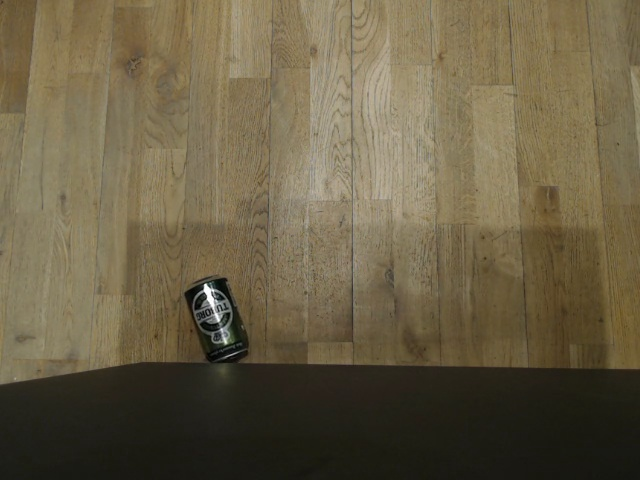beer: (179, 266, 257, 366)
